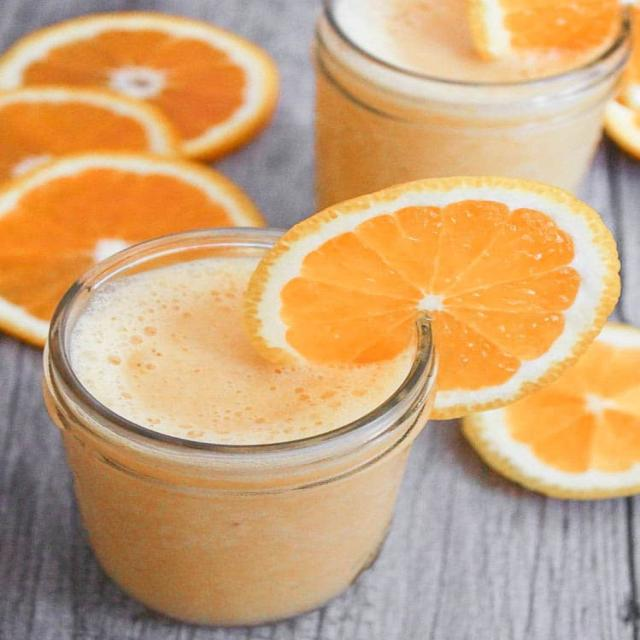orange: (244, 171, 621, 422), (1, 8, 276, 164), (459, 318, 640, 498), (1, 86, 190, 185), (2, 157, 112, 266)
